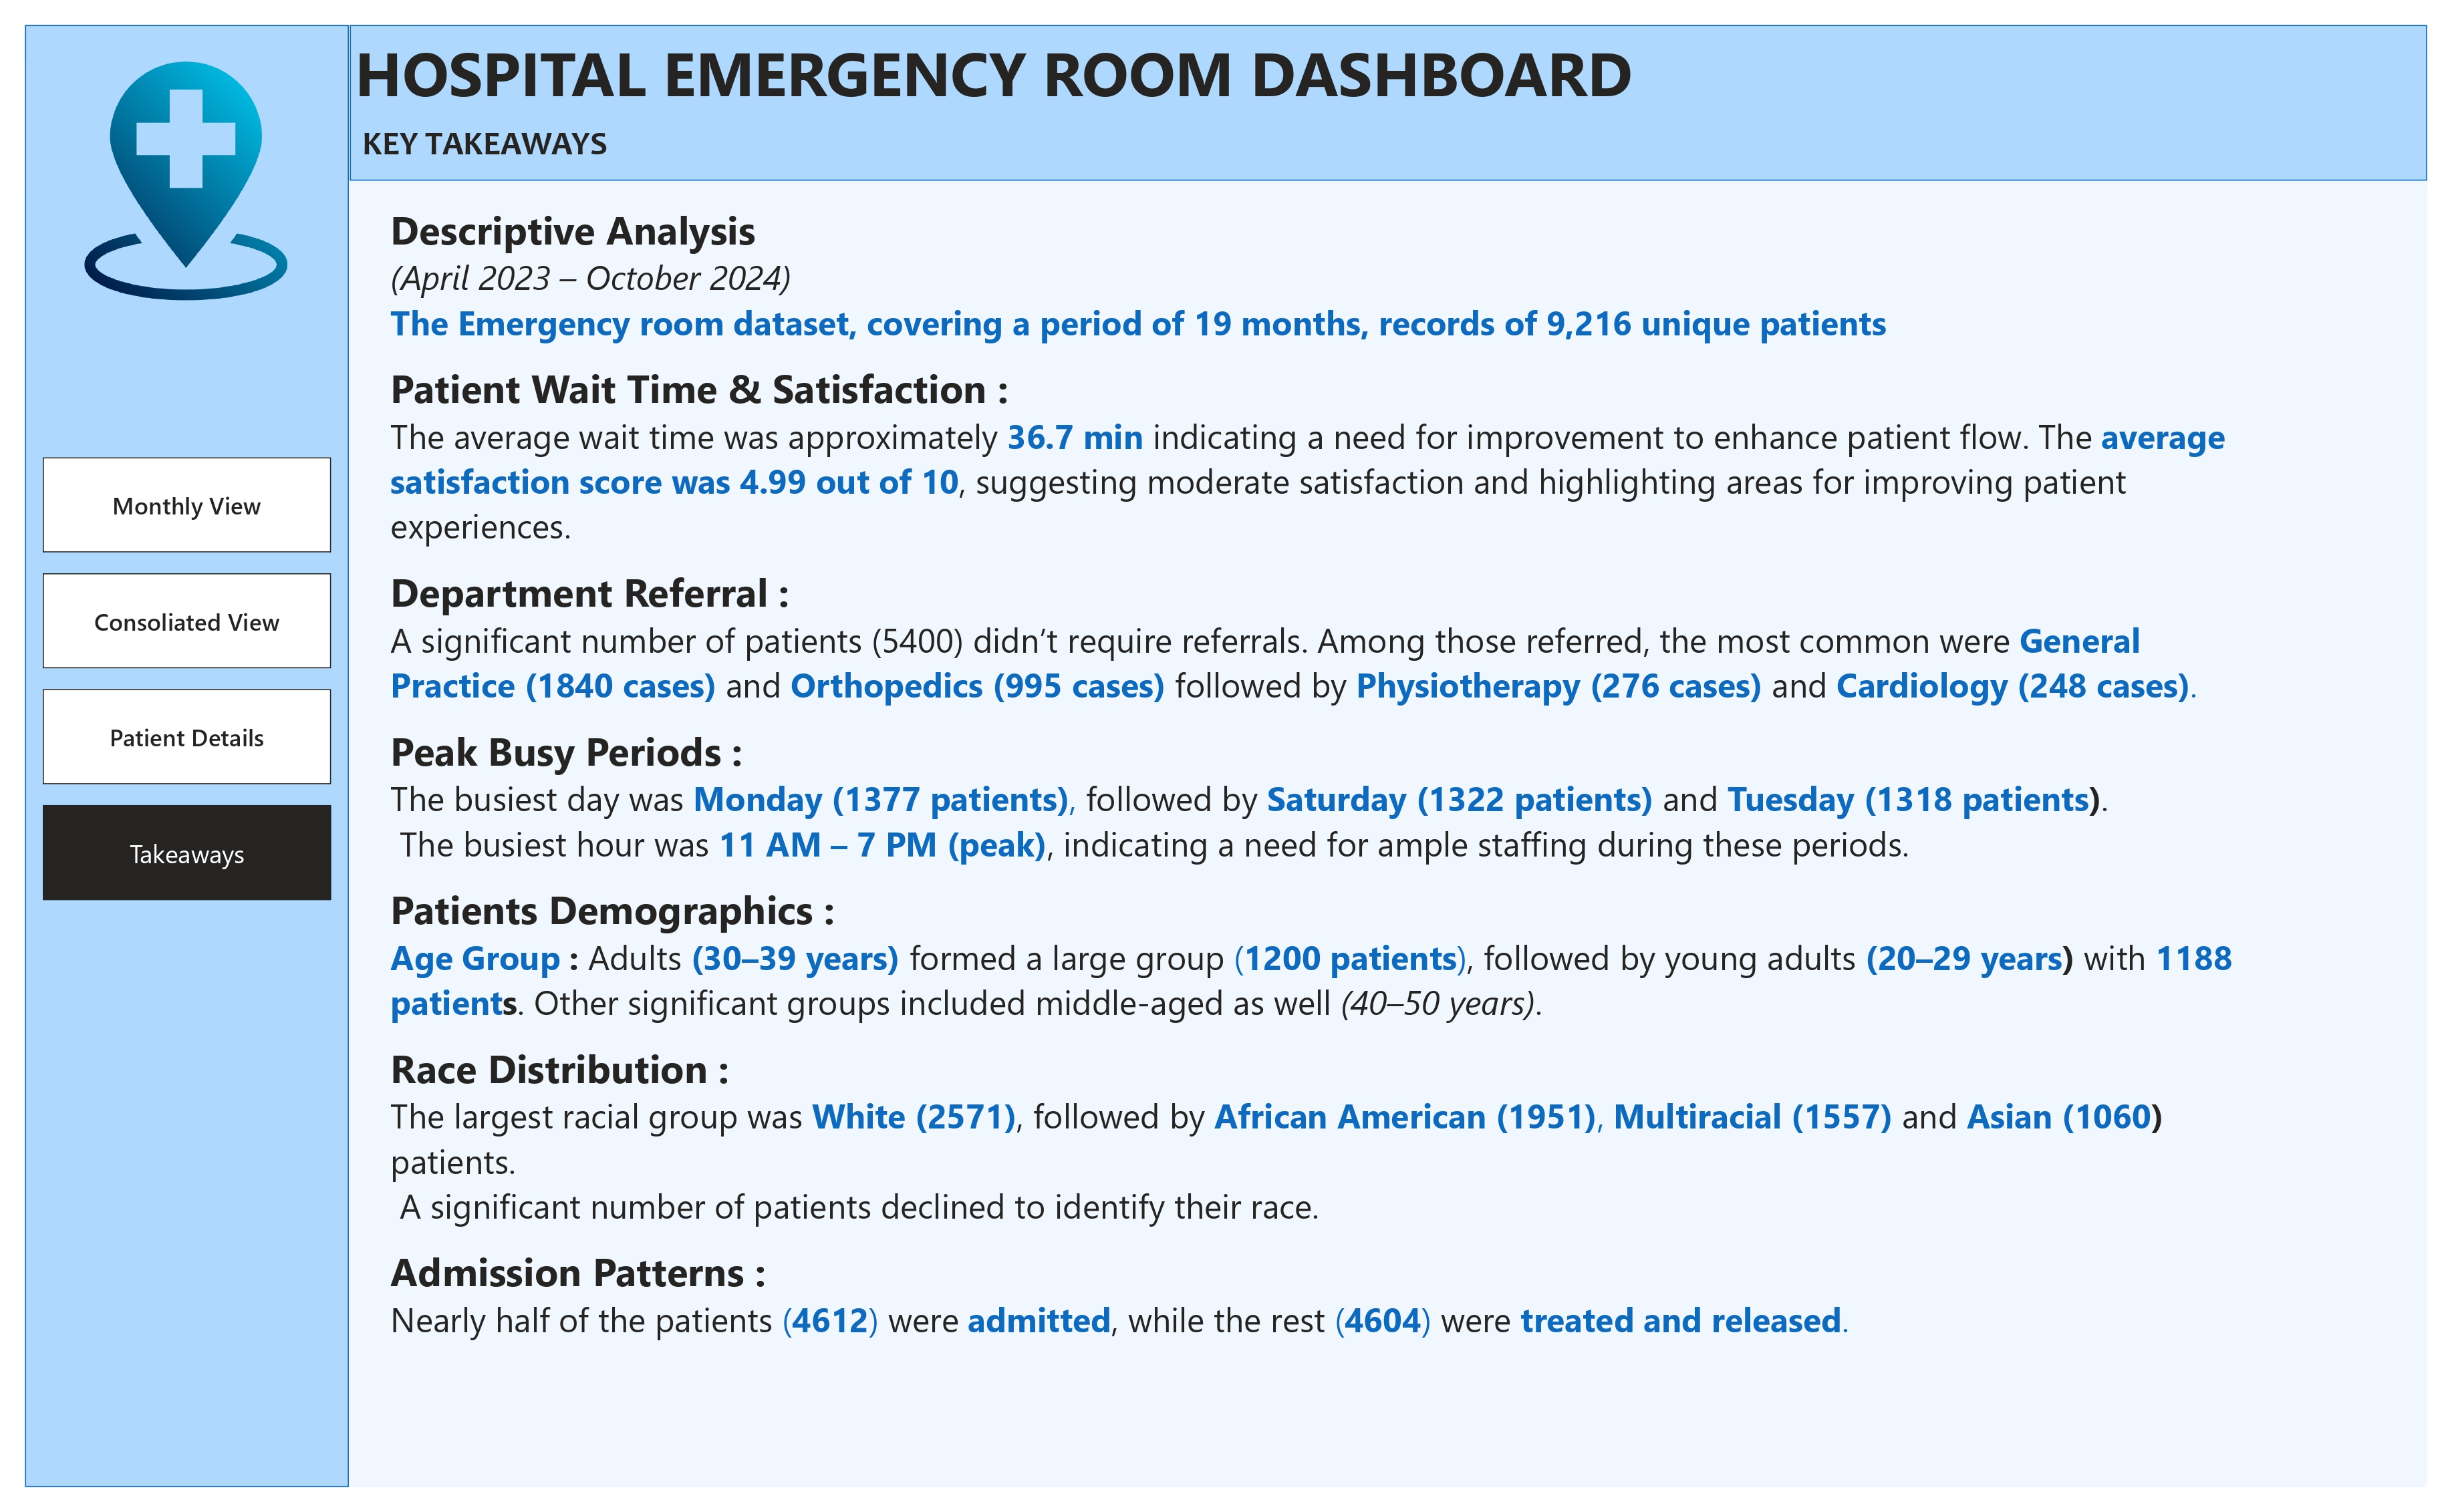

The dashboard page shown, as its layout file describes it:
{"tool":"powerbi","page":{"name":"Takeaways","canvas":[2300,1400],"ordinal":3},"visuals":[{"type":"shape","box":[0,0,310,1400],"z":0},{"type":"shape","box":[311.4,0,1988.6,148.6],"z":1000},{"type":"textbox","box":[311.4,0,1842.9,111.4],"z":2000},{"type":"textbox","box":[310.5,89.5,334.2,57.9],"z":3000},{"type":"image","box":[34.2,21.1,239.5,255.3],"z":4000},{"type":"textbox","box":[344.8,148.3,1806.9,1251.7],"z":5000},{"type":"pageNavigator","box":[17.2,413.8,275.9,427.6],"z":6000}]}

Visuals, with their boxes on the page's 2300x1400 design canvas (x1, y1, x2, y2). These are canvas units, not pixel positions in the 2452x1512 screenshot, which may show the page scaled, cropped or inside an application window:
shape: region(0, 0, 310, 1400)
shape: region(311, 0, 2300, 149)
textbox: region(311, 0, 2154, 111)
textbox: region(310, 90, 645, 147)
image: region(34, 21, 274, 276)
textbox: region(345, 148, 2152, 1400)
pageNavigator: region(17, 414, 293, 841)
